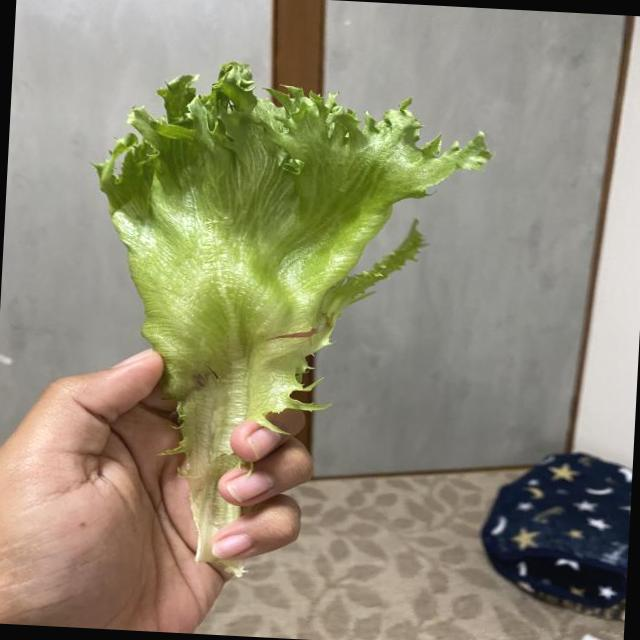Lettuce-Ready-to-Harvest: (97, 63, 490, 563)
